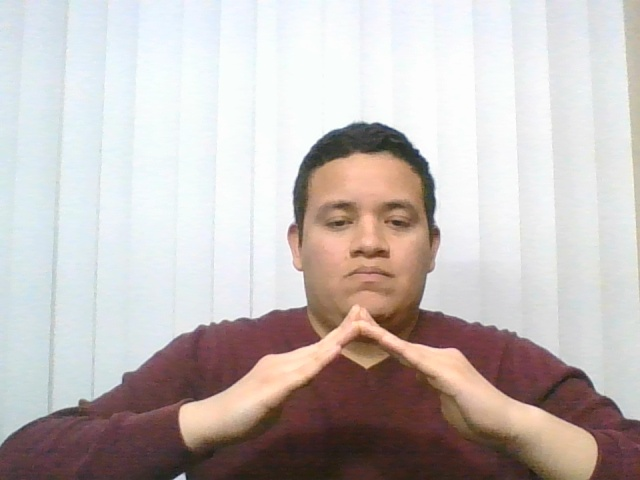House: (117, 291, 570, 471)
